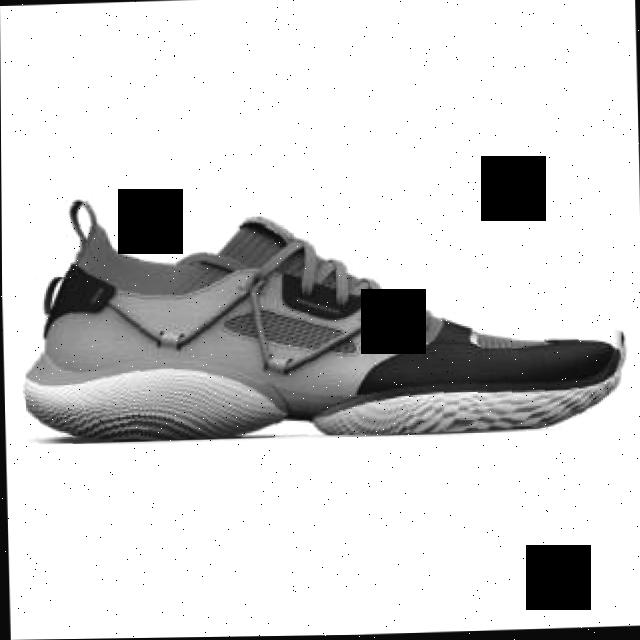shoe: (20, 186, 626, 445)
